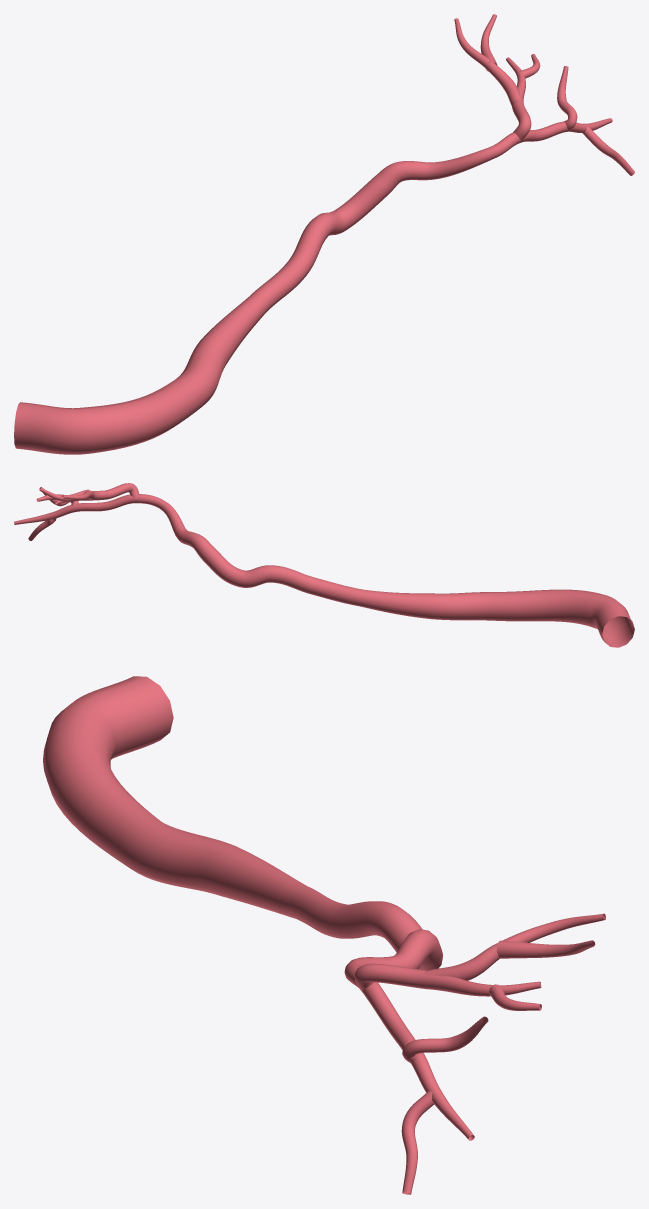
3 views of the same model, one above another, from view 1: azimuth 30°, elevation 25°; view 2: azimuth 150°, elevation 25°; view 3: azimuth 270°, elevation 25° (orthographic). The views are drawn at different scales.
Parts seen in each view (by area): view 1: ZA_d37dc45f356918a7; view 2: ZA_d37dc45f356918a7; view 3: ZA_d37dc45f356918a7.
Boxes of the visible parts, box(x1,y1,x2,y2) form: ZA_d37dc45f356918a7: box(14, 14, 634, 454); ZA_d37dc45f356918a7: box(14, 483, 634, 647); ZA_d37dc45f356918a7: box(43, 676, 605, 1194).
Size of the model in its own units: 0.1061 by 0.025 by 0.0484.
